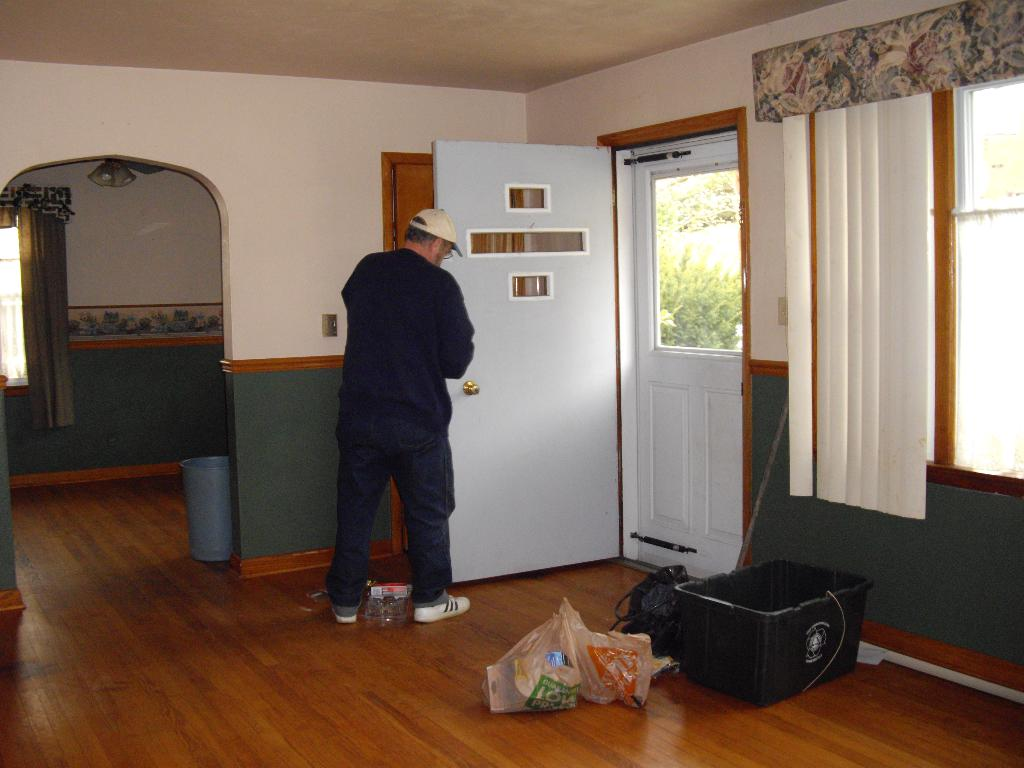Door: (616, 65, 776, 602), (435, 140, 624, 584), (408, 165, 493, 552)
